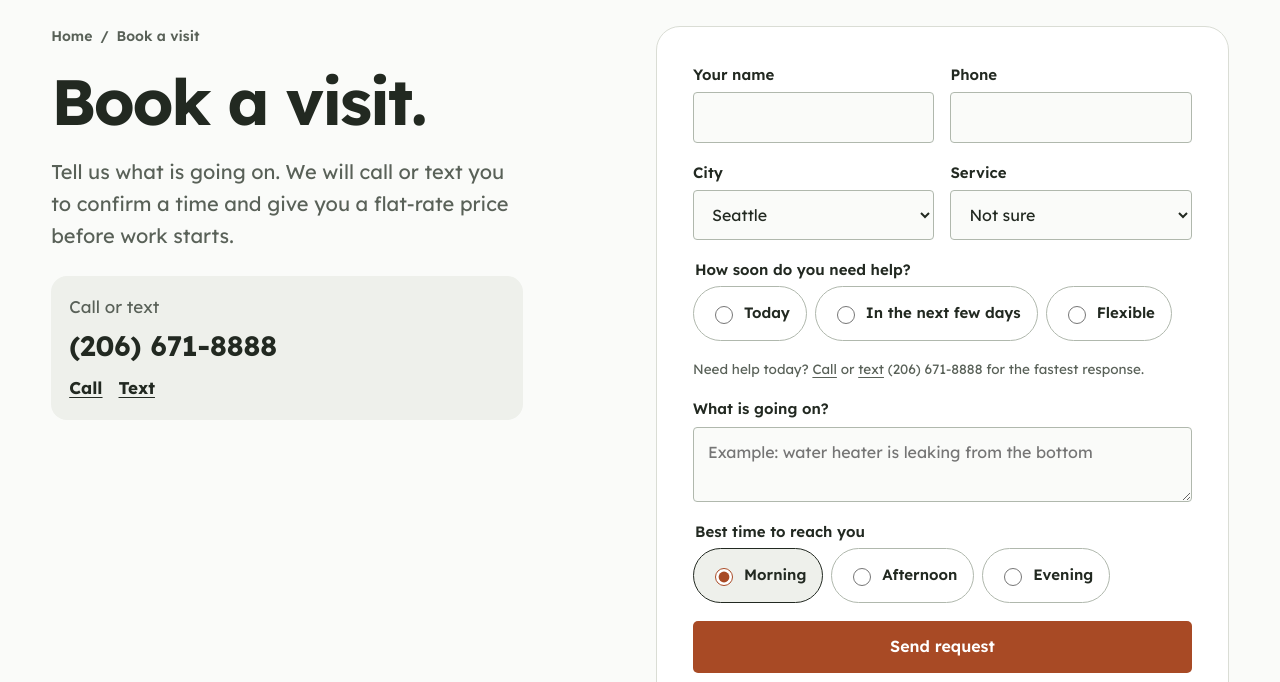
Test: booking request › counts first input once per mount and reports a network failure
Type "Taylor" into the field labelled "Your name" at (814, 118), box left=693, top=92, right=934, bottom=143
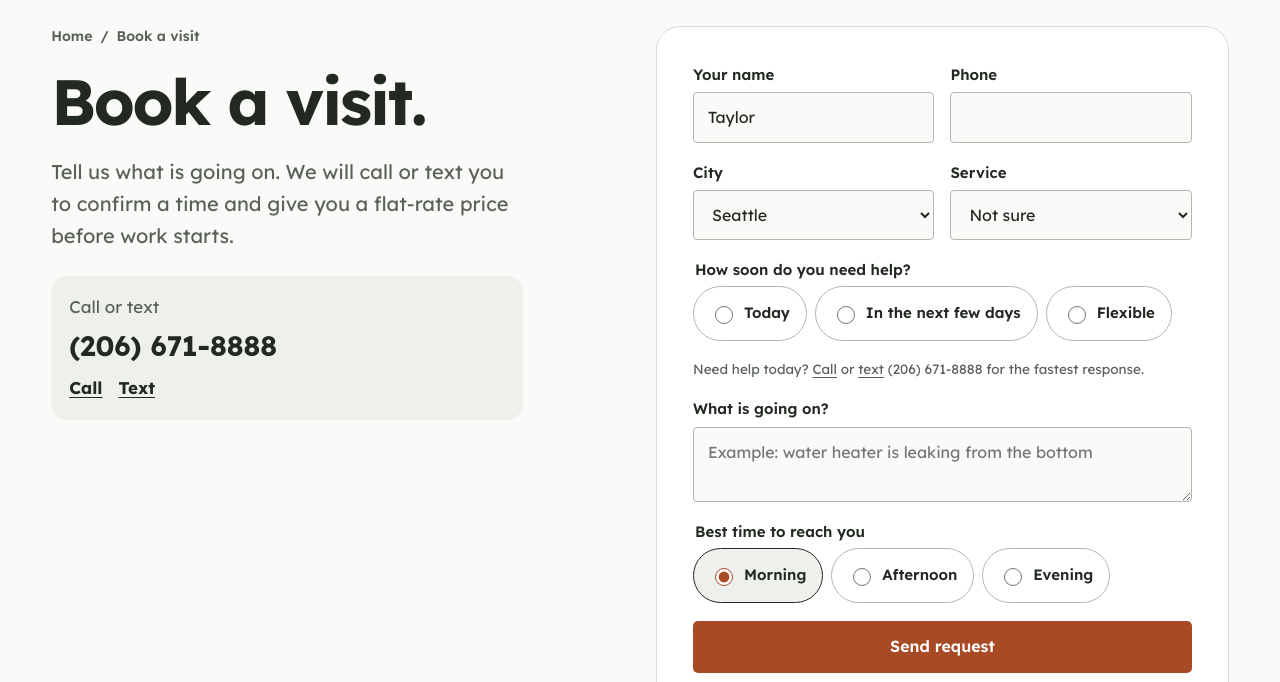
Replace the text in the field labelled "Your name" with "Taylor Lee" at (814, 118), box left=693, top=92, right=934, bottom=143
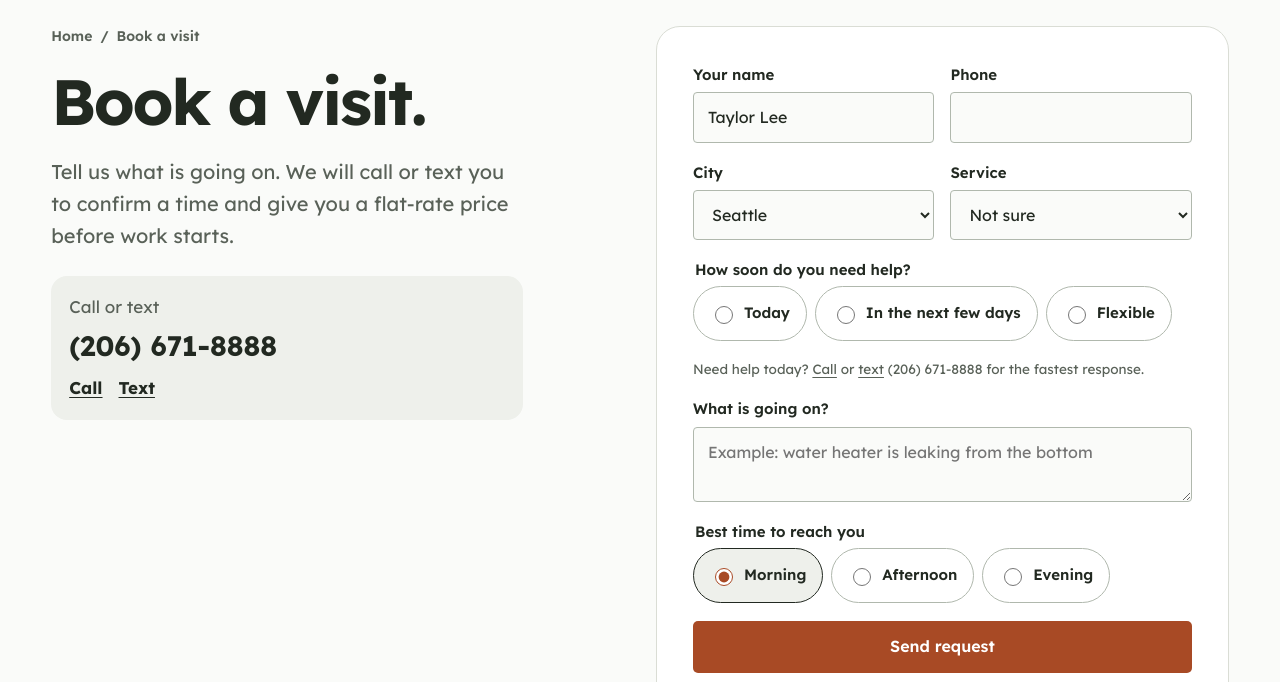
Type "(206) 555-0123" into the field labelled "Phone" at (1071, 118), box left=950, top=92, right=1192, bottom=143
(page scrolled)
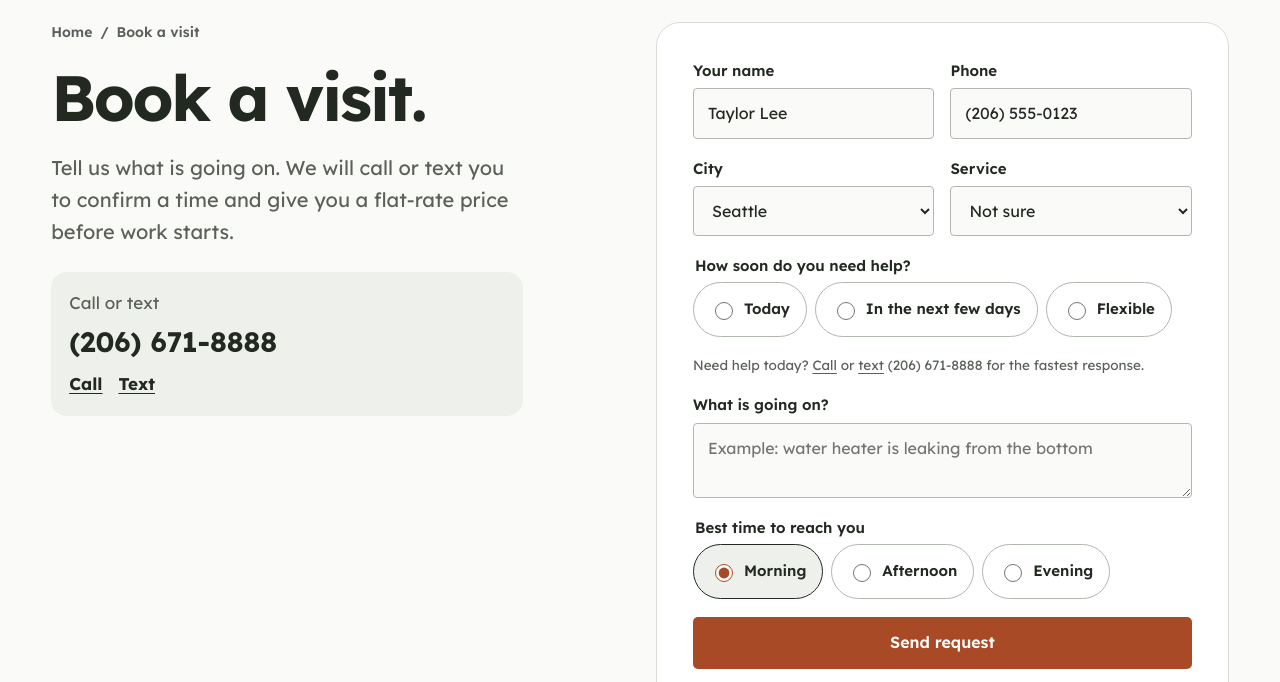
Submit the form labelled "Your name"
(page scrolled)
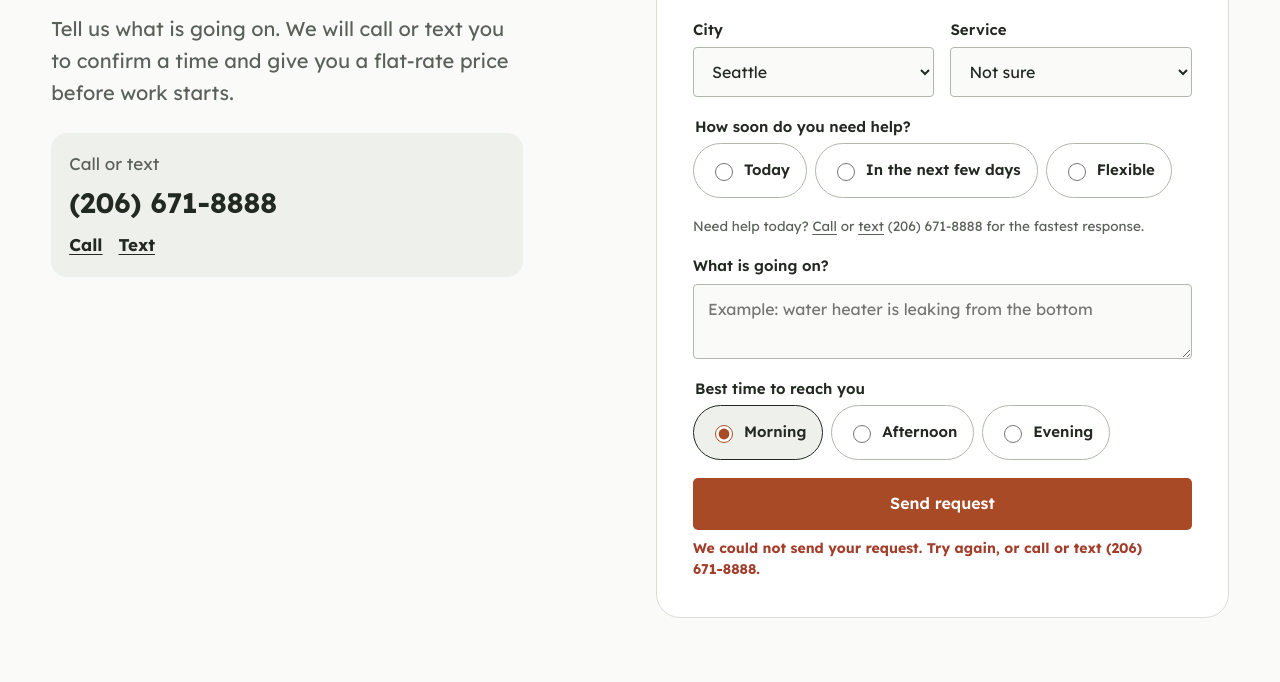
Expected: the message "We could not send your request. Try again, or call or text (206) 671-8888." is shown, left=693, top=538, right=1192, bottom=581
